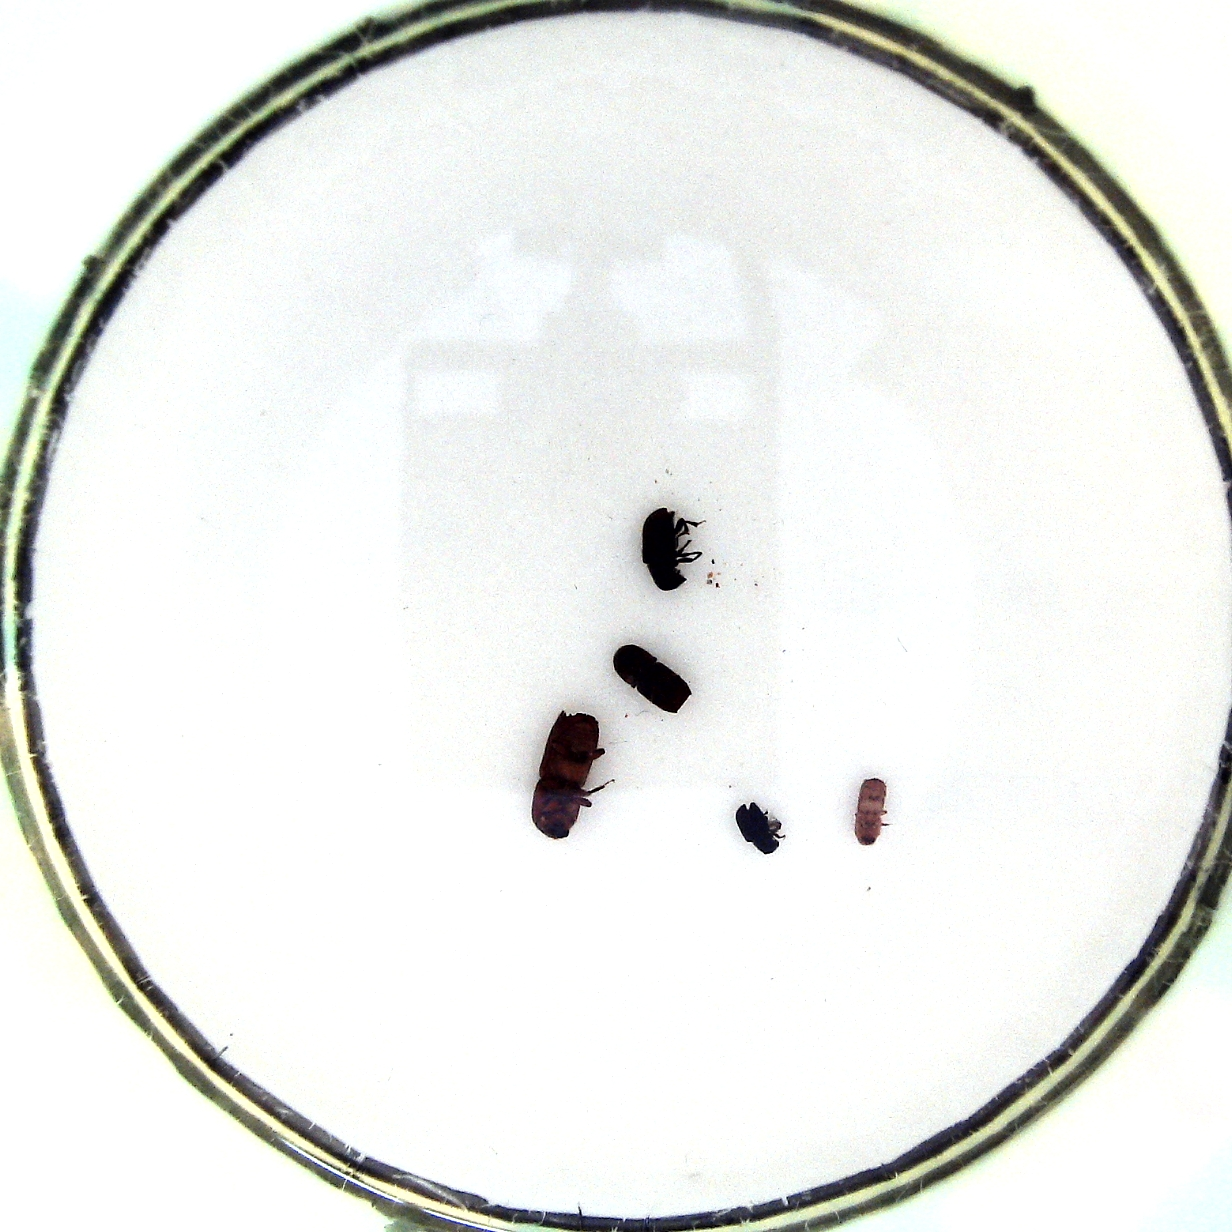Boerner: (525, 706, 617, 842)
Linnaeus: (610, 639, 695, 718)
acuminatus: (851, 772, 895, 851)
armandi: (636, 505, 705, 598)
coleoptera: (732, 797, 792, 857)
